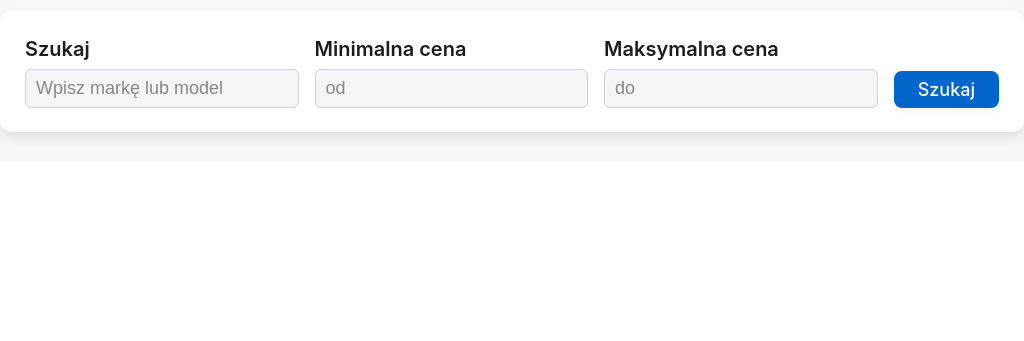
Test: SimpleSearch Component › handles price suggestion clicks
Step 1. Focus the field labelled "Minimalna cena" → (451, 88), box [314,69,588,108]
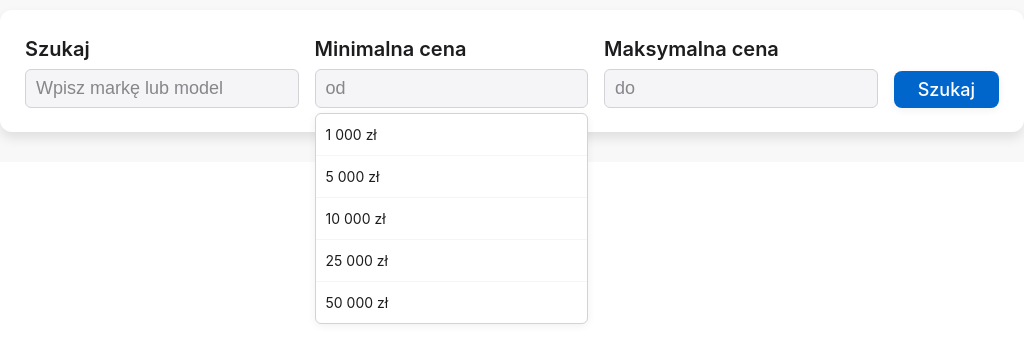
Expected: the list item "1 000 zł" is shown
Step 2. Press the mouse on the list item "1 000 zł" → (451, 135), box [316,114,587,156]
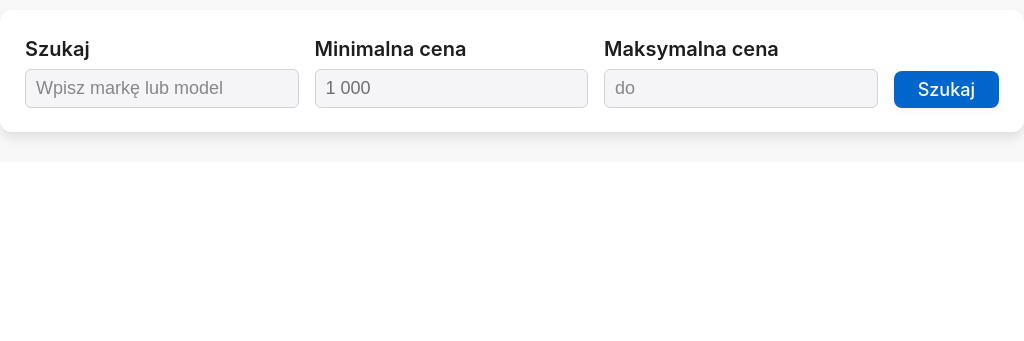
Expected: the field labelled "Minimalna cena" holds "1 000", [314,69,588,108]
